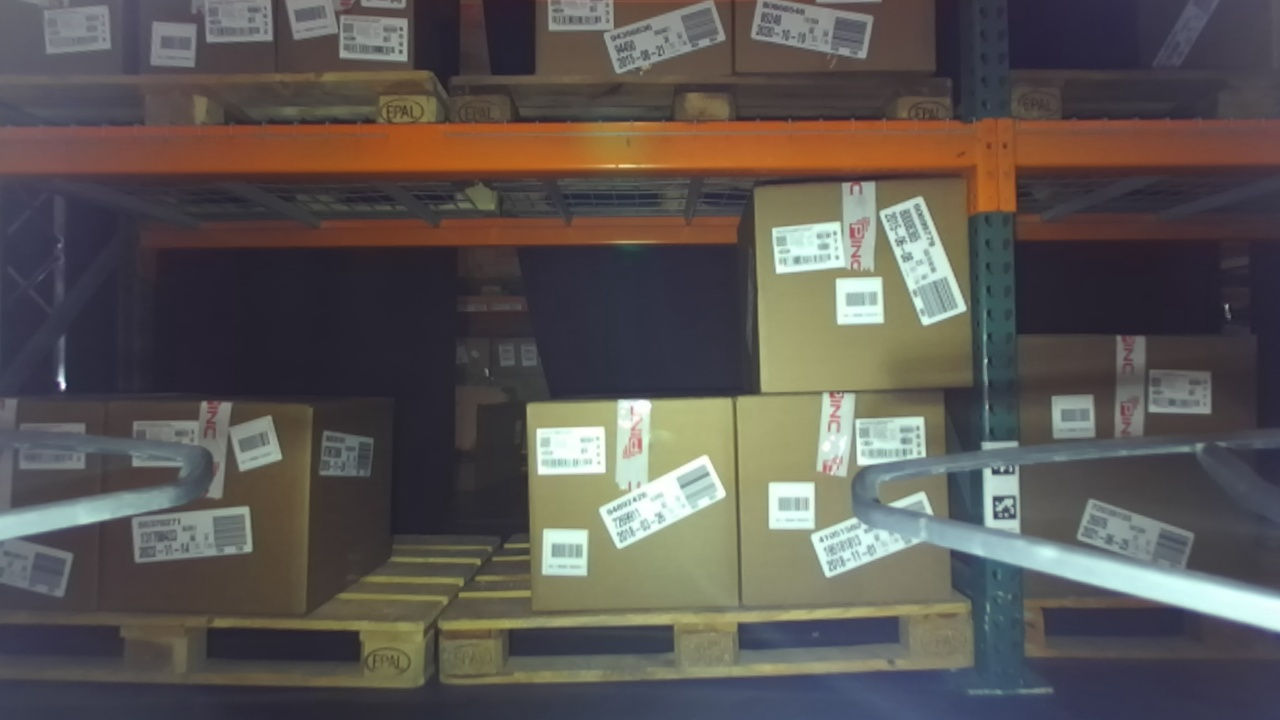box: (1008, 326, 1280, 615), (711, 368, 971, 626), (733, 160, 990, 406), (511, 378, 762, 624), (99, 374, 333, 627)
